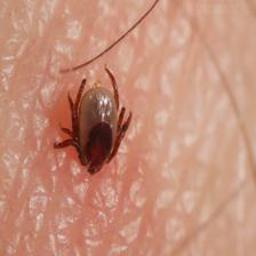Ixodes scapularis: (56, 77, 132, 176)
